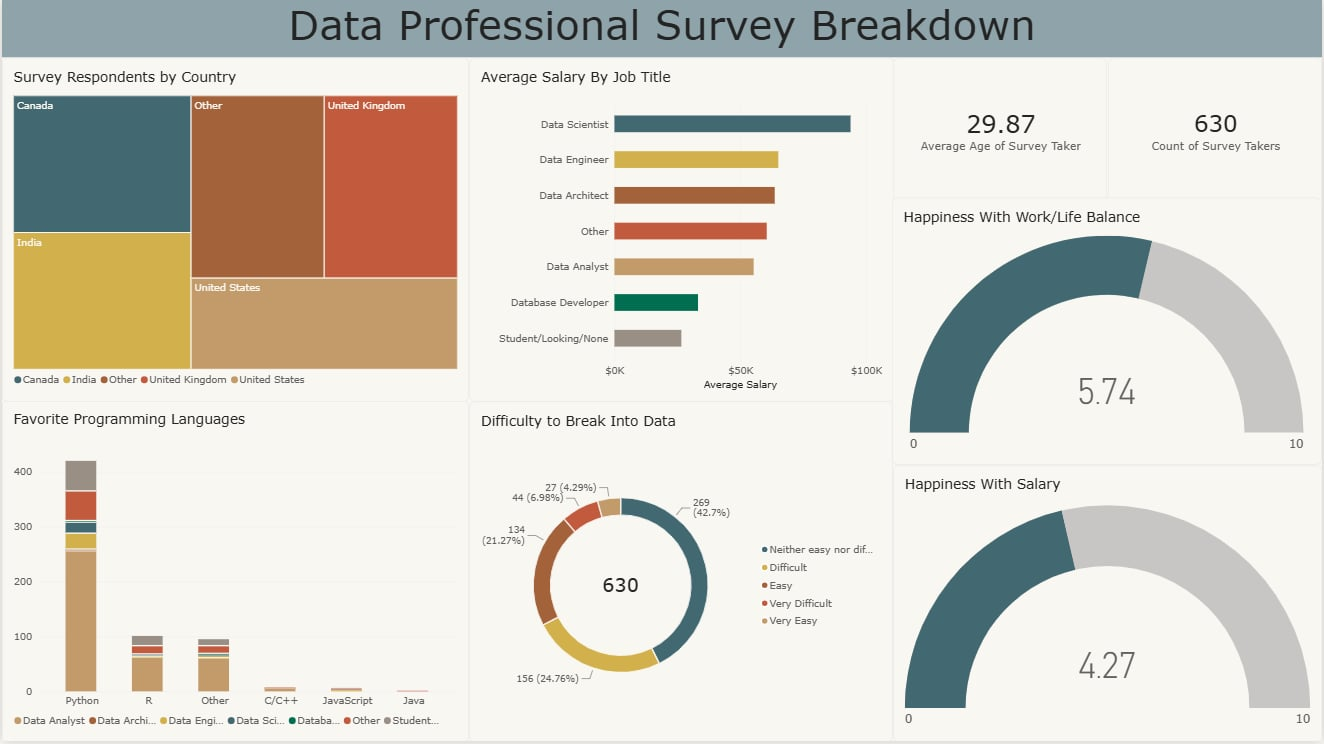

This screenshot's page, from the dashboard's own definition file:
{"tool":"powerbi","page":{"name":"Page 1","canvas":[1920,1080],"ordinal":0},"visuals":[{"type":"textbox","box":[0,0,1920,85],"z":0},{"type":"cardVisual","fields":{"Data":["Count(Data Professional Survey.Unique ID)"]},"box":[1608.3,85,311.7,211.7],"z":1000},{"type":"cardVisual","fields":{"Data":["Avg(Data Professional Survey.Q10 - Current Age)"]},"box":[1296.7,85,311.7,211.7],"z":2000},{"type":"barChart","title":"Average Salary By Job Title","fields":{"Category":["Data Professional Survey.Q1 - Which Title Best Fits your Current Role?.1"],"Series":["Data Professional Survey.Q1 - Which Title Best Fits your Current Role?.1"],"Y":["Avg(Data Professional Survey.Average Salary )"]},"box":[679.4,85,617.2,500],"z":3000},{"type":"columnChart","title":"Favorite Programming Languages","fields":{"Category":["Data Professional Survey.Q5 - Favorite Programming Language.1"],"Series":["Data Professional Survey.Q1 - Which Title Best Fits your Current Role?.1"],"Y":["CountNonNull(Data Professional Survey.Unique ID)"]},"box":[0,583.3,679.2,497.2],"z":4000},{"type":"treemap","title":"Survey Respondents by Country","fields":{"Group":["Data Professional Survey.Q11 - Which Country do you live in?.1"],"Values":["Count(Data Professional Survey.Q11 - Which Country do you live in?.1)"]},"box":[0,85,679.6,500],"z":5000},{"type":"gauge","title":"Happiness With Work/Life Balance","fields":{"MaxValue":["Max(Data Professional Survey.Q6 - How Happy are you in your Current Position with the following? (Work/Life Balance))2"],"MinValue":["Min(Data Professional Survey.Q6 - How Happy are you in your Current Position with the following? (Work/Life Balance))1"],"Y":["Avg(Data Professional Survey.Q6 - How Happy are you in your Current Position with the following? (Work/Life Balance))"]},"box":[1294.8,289.6,624.7,388.3],"z":6000},{"type":"gauge","title":"Happiness With Salary","fields":{"MaxValue":["Max(Data Professional Survey.Q6 - How Happy are you in your Current Position with the following? (Salary))"],"MinValue":["Min(Data Professional Survey.Q6 - How Happy are you in your Current Position with the following? (Salary))"],"Y":["Avg(Data Professional Survey.Q6 - How Happy are you in your Current Position with the following? (Salary))"]},"box":[1295.8,677.8,623.6,402.8],"z":7000},{"type":"donutChart","title":"Difficulty to Break Into Data","fields":{"Category":["Data Professional Survey.Q7 - How difficult was it for you to break into Data?"],"Y":["CountNonNull(Data Professional Survey.Q7 - How difficult was it for you to break into Data?)"]},"box":[679.2,584.7,615.3,495.8],"z":8000}]}

Visuals, with their boxes in screenshot pixels (x1, y1, x2, y2), scaled from the page's 1920x1080 canvas onto the 1324x744 screenshot:
textbox: <region>0, 0, 1323, 59</region>
cardVisual - Count(Data Professional Survey.Unique ID): <region>1109, 59, 1323, 204</region>
cardVisual - Avg(Data Professional Survey.Q10 - Current Age): <region>894, 59, 1109, 204</region>
"Average Salary By Job Title" barChart: <region>469, 59, 894, 403</region>
"Favorite Programming Languages" columnChart: <region>0, 402, 468, 743</region>
"Survey Respondents by Country" treemap: <region>0, 59, 469, 403</region>
"Happiness With Work/Life Balance" gauge: <region>893, 200, 1323, 467</region>
"Happiness With Salary" gauge: <region>894, 467, 1323, 743</region>
"Difficulty to Break Into Data" donutChart: <region>468, 403, 893, 743</region>
